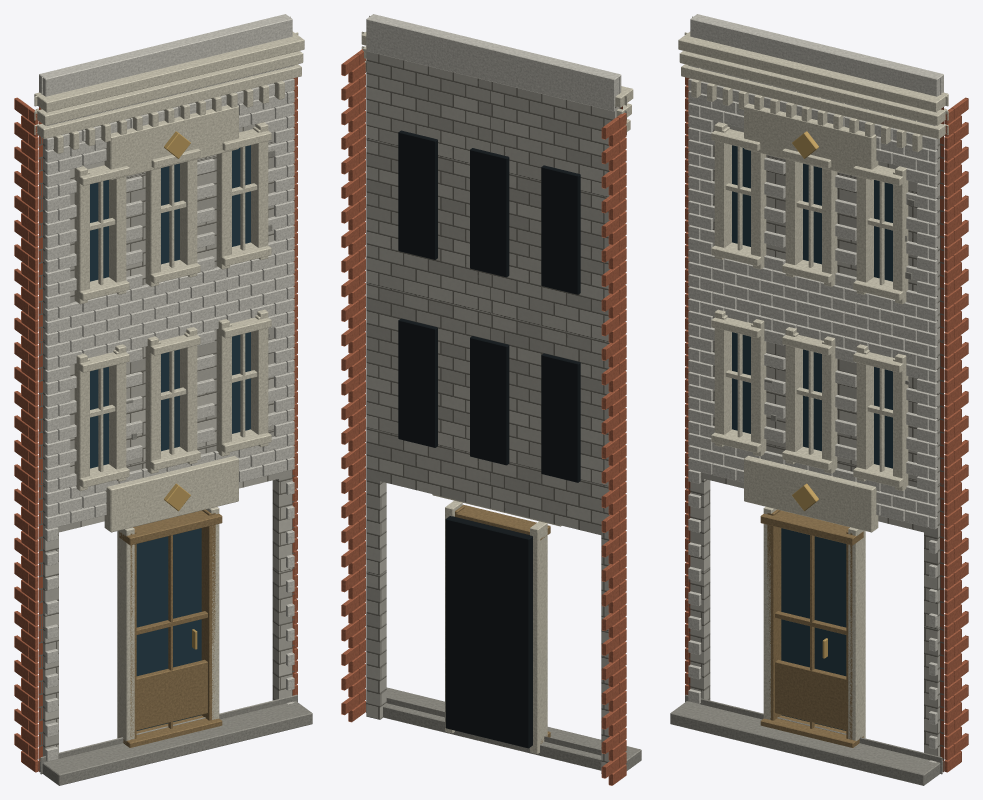
Rendered from OFFC19_lod0.glb.
The picture shows the model from 3 angles, left to right: view 1: azimuth 30°, elevation 25°; view 2: azimuth 150°, elevation 25°; view 3: azimuth 330°, elevation 25°; orthographic projection.
Visible parts, largest first — view 1: OFFC19_FRONT_LOD0; view 2: OFFC19_FRONT_LOD0; view 3: OFFC19_FRONT_LOD0.
Part boxes in pixels (x1=…): OFFC19_FRONT_LOD0: x1=14, y1=14, x2=312, y2=785; OFFC19_FRONT_LOD0: x1=341, y1=14, x2=641, y2=785; OFFC19_FRONT_LOD0: x1=670, y1=14, x2=968, y2=785.
Bounding box in the file's own units: 3.84 × 9.66 × 1.02.
15 materials, 12 textured.
